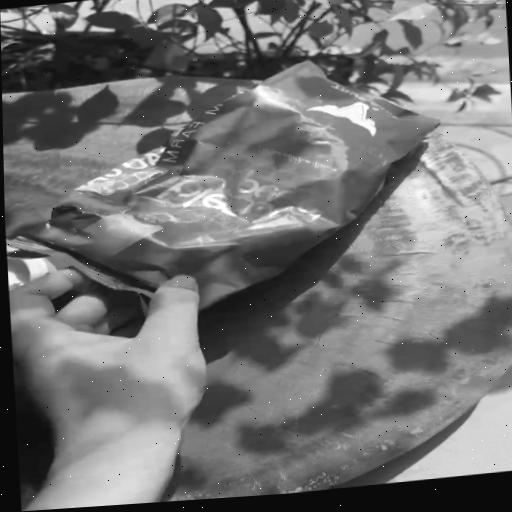cafe_xay: (7, 62, 435, 312)
